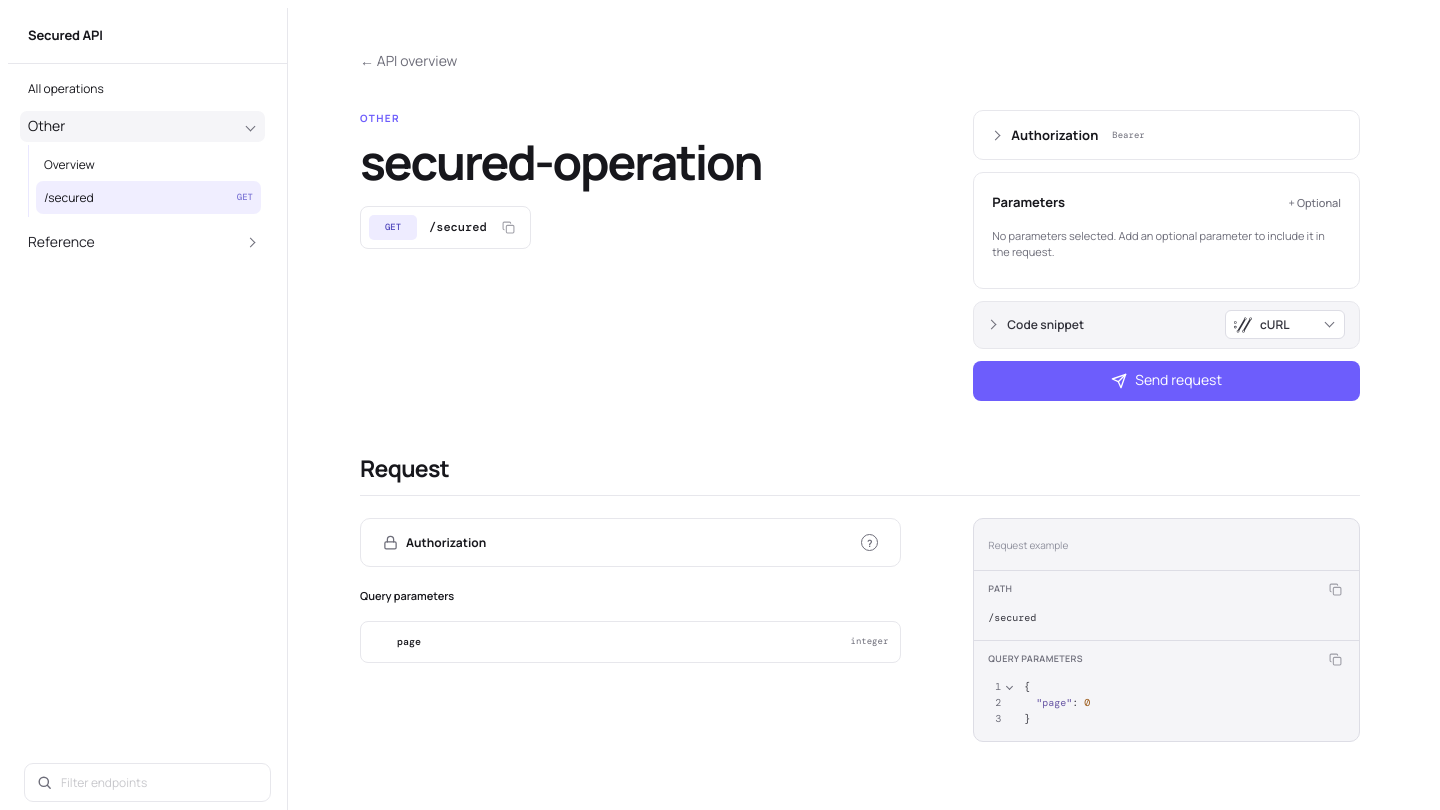
Test: operation security schemes › renders alternative schemes as OR and combined schemes as AND
The image size is (1440, 810).
Expected: the element "Authorization" is shown, [360, 518, 901, 709]
Click the button "Authorization ?": (446, 543) [383, 533, 878, 552]
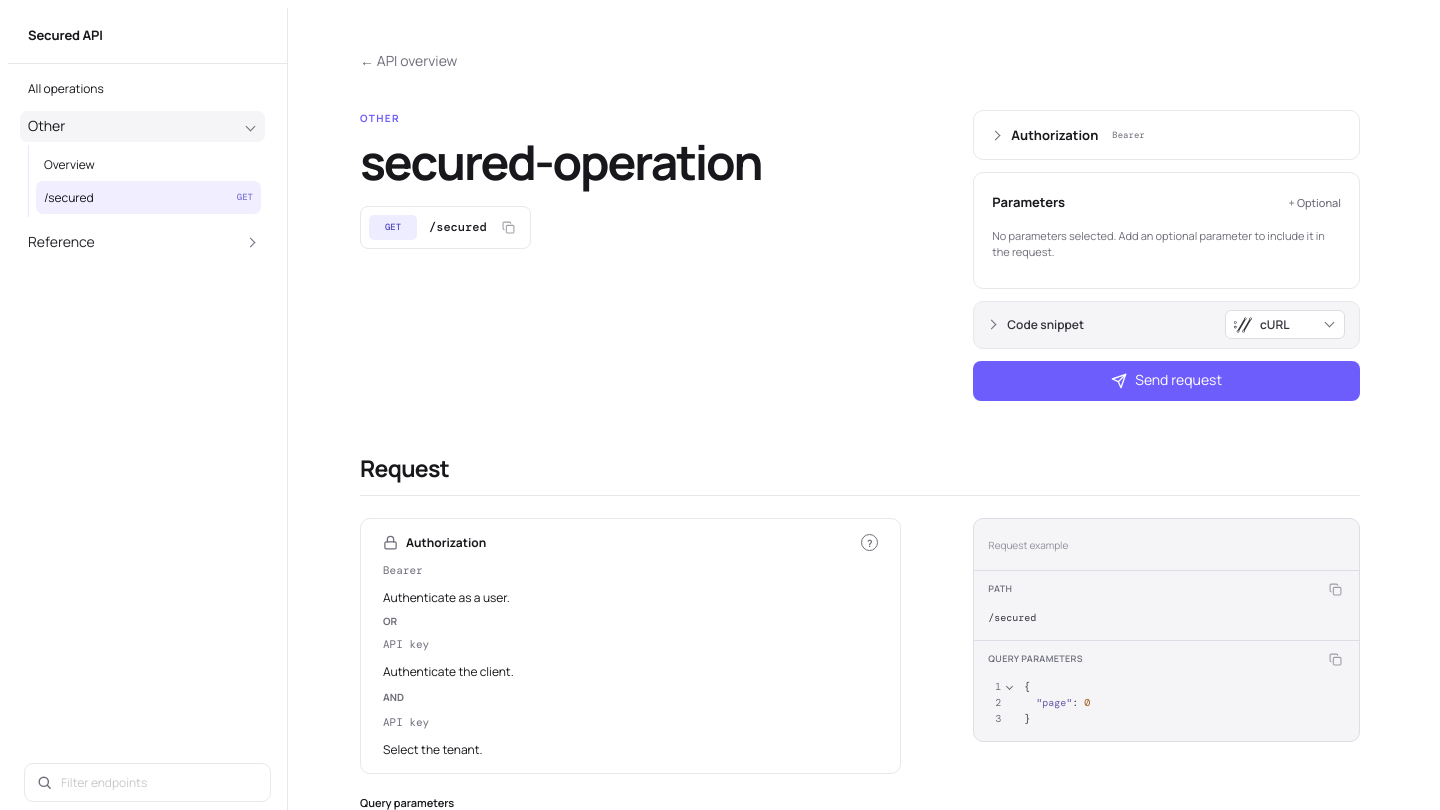
Now the text "or" is shown, box [383, 614, 397, 628]
Now the text "and" is shown, box [383, 690, 404, 704]
Now the 2nd text "Bearer" is shown, box [383, 563, 423, 577]
